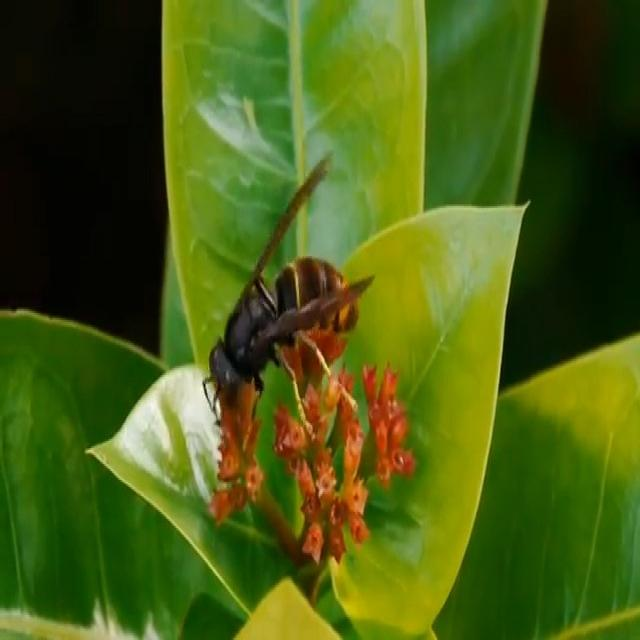Hornets: (202, 150, 376, 450)
